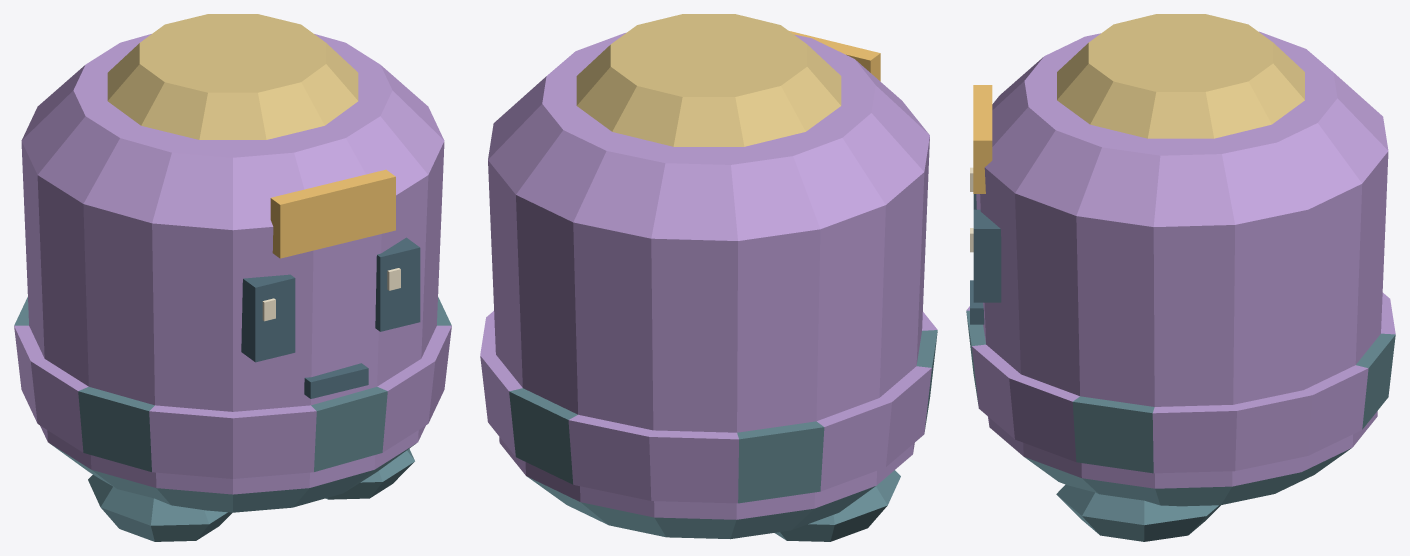
File: FestivalHeavy.glb
3 views of the same model, side by side, from view 1: azimuth 30°, elevation 25°; view 2: azimuth 150°, elevation 25°; view 3: azimuth 270°, elevation 25° (orthographic). The views are drawn at different scales.
Visible parts, largest first — view 1: FestivalHeavy; view 2: FestivalHeavy; view 3: FestivalHeavy.
Part boxes in pixels (<box>): FestivalHeavy: <box>14,14,451,541</box>; FestivalHeavy: <box>480,14,937,541</box>; FestivalHeavy: <box>966,14,1395,541</box>.
Size of the model in its own units: 1.17 by 1.31 by 1.17.
